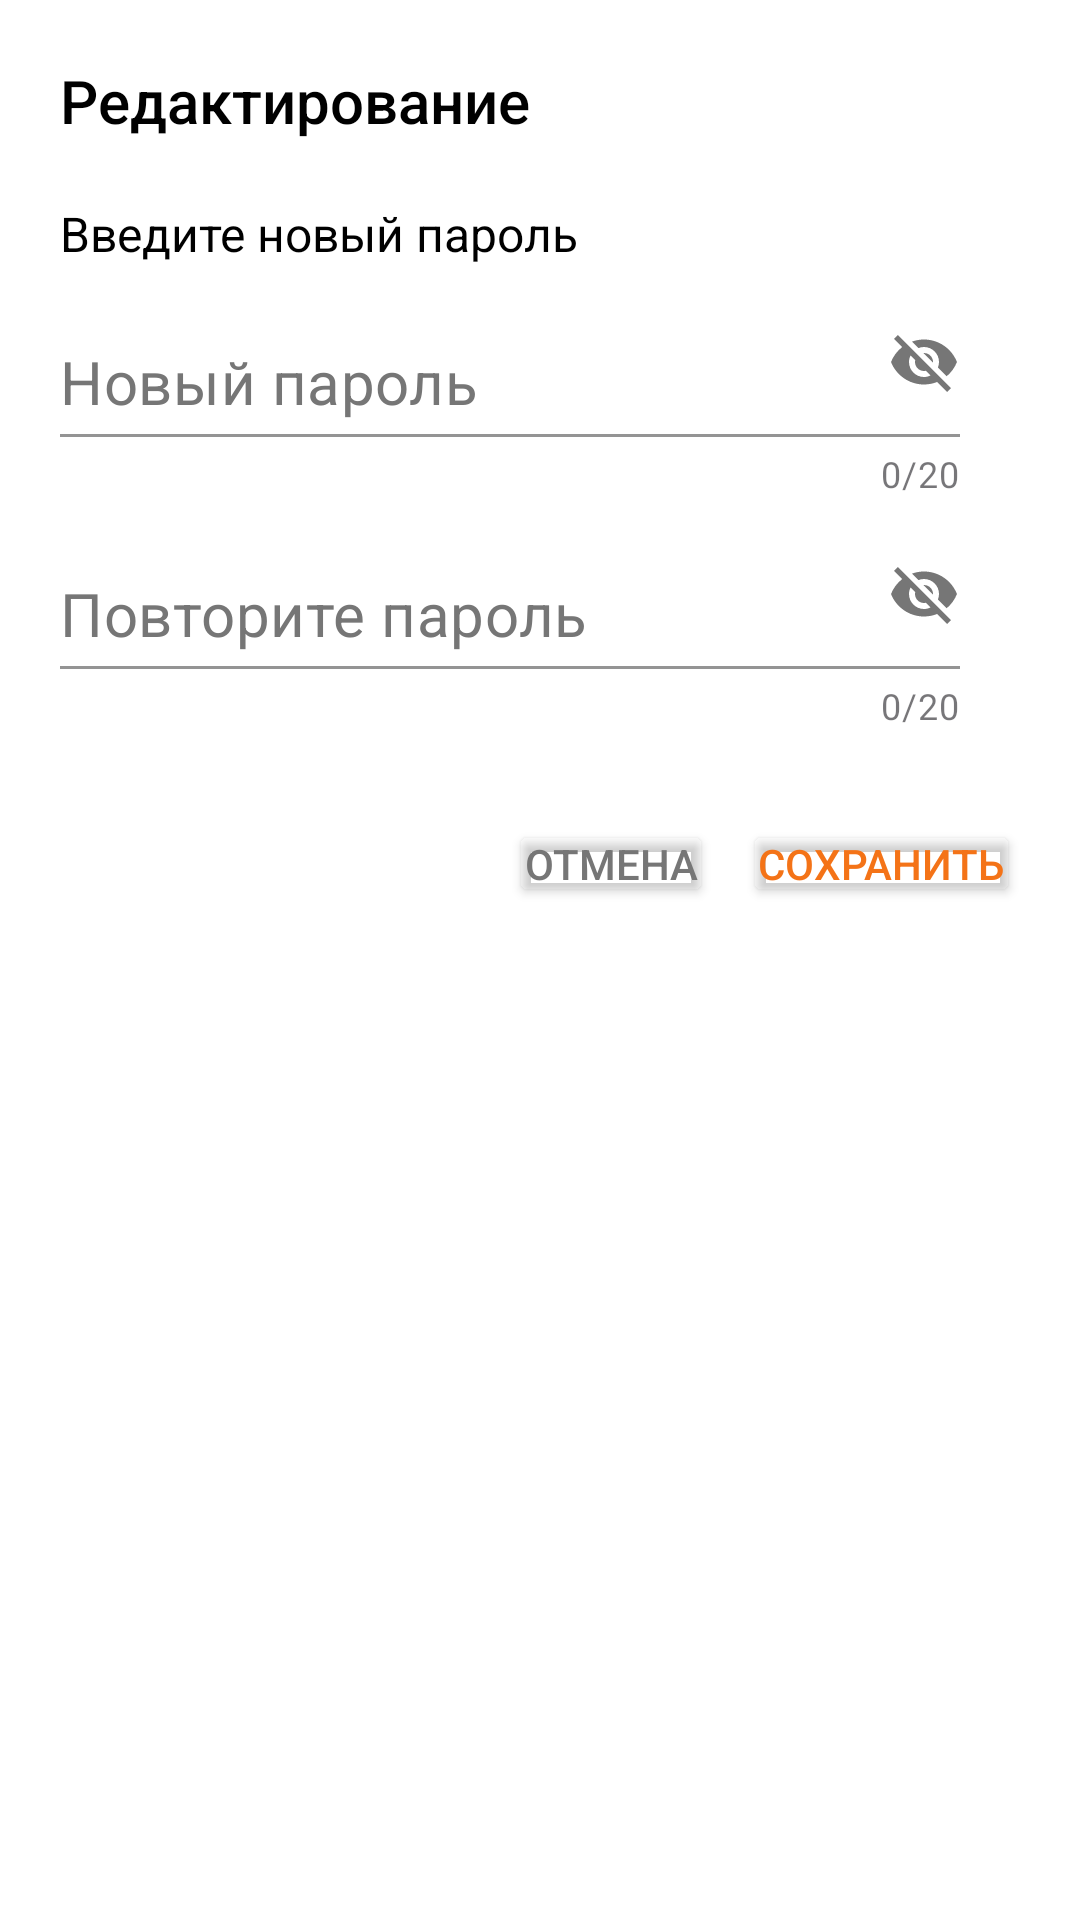

Screen size 1080×1920. Icon name, then its box in pixels as (x1, y1, x2, y2):
hide password: (891, 335, 957, 392), (891, 567, 957, 624)
